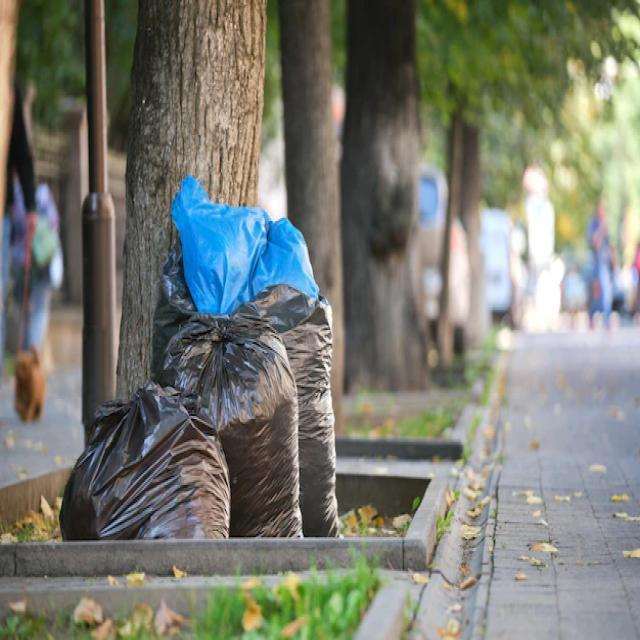garbage: (63, 185, 345, 574)
